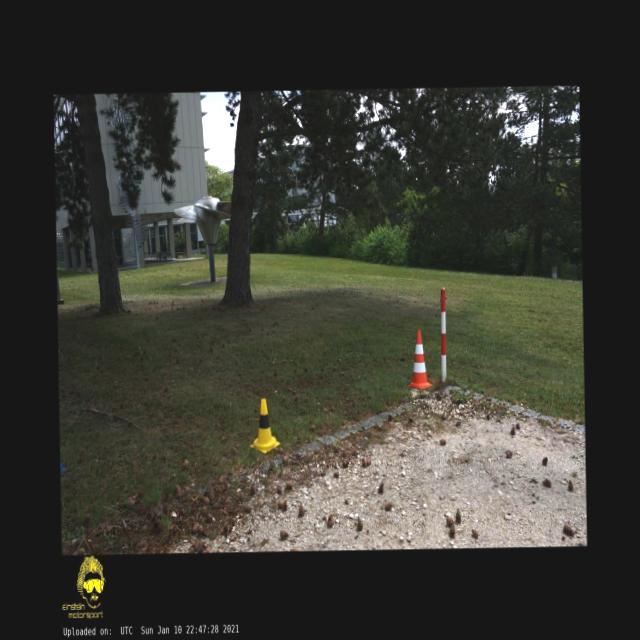large_orange_cone: (406, 329, 432, 389)
yellow_cone: (249, 398, 280, 453)
